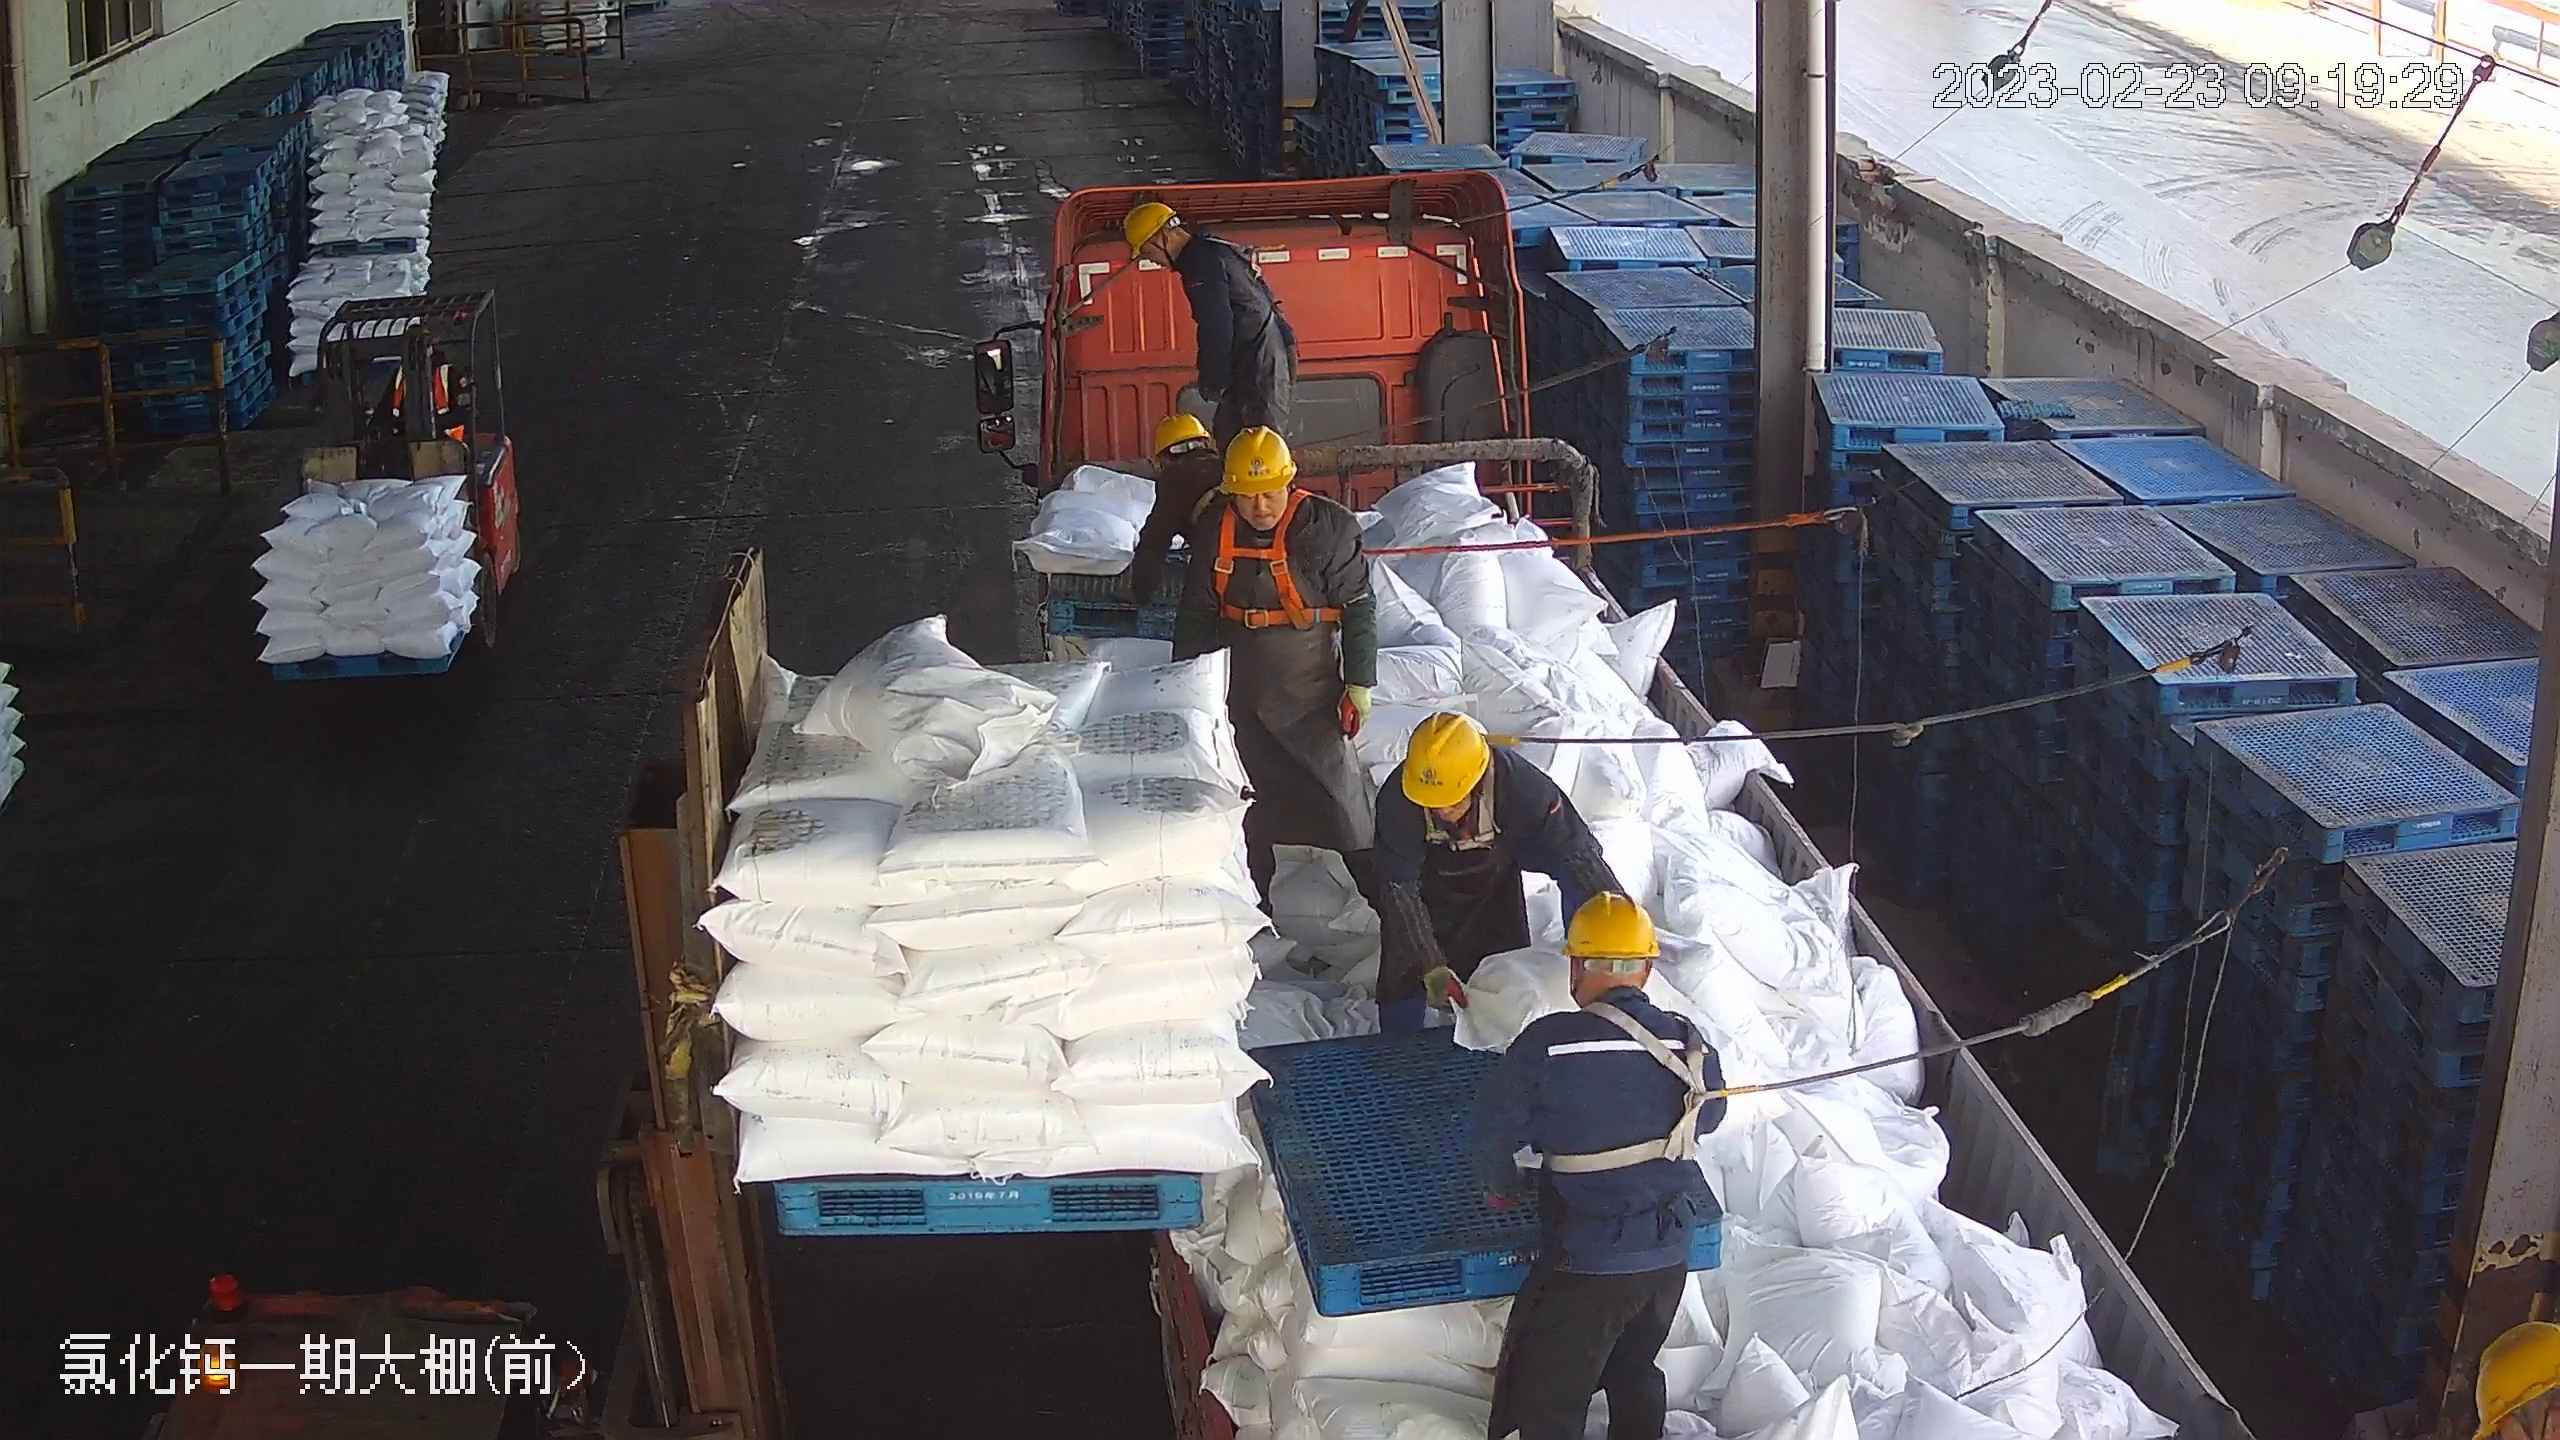belt: (1537, 996, 1766, 1171), (1397, 717, 1535, 853), (1217, 489, 1341, 627), (1210, 233, 1292, 277), (1188, 455, 1226, 517)
head: (1504, 886, 1718, 1113), (1194, 426, 1356, 583), (1382, 710, 1552, 849), (1124, 202, 1244, 299)
helmet: (2466, 1310, 2558, 1428), (1399, 710, 1486, 808), (1563, 890, 1661, 959), (1222, 425, 1296, 493), (1122, 200, 1175, 256), (1150, 412, 1214, 457)
people: (1484, 892, 1722, 1440), (1177, 423, 1383, 911), (1372, 708, 1629, 1025), (1125, 199, 1301, 449)
truck: (980, 160, 2256, 1430)
